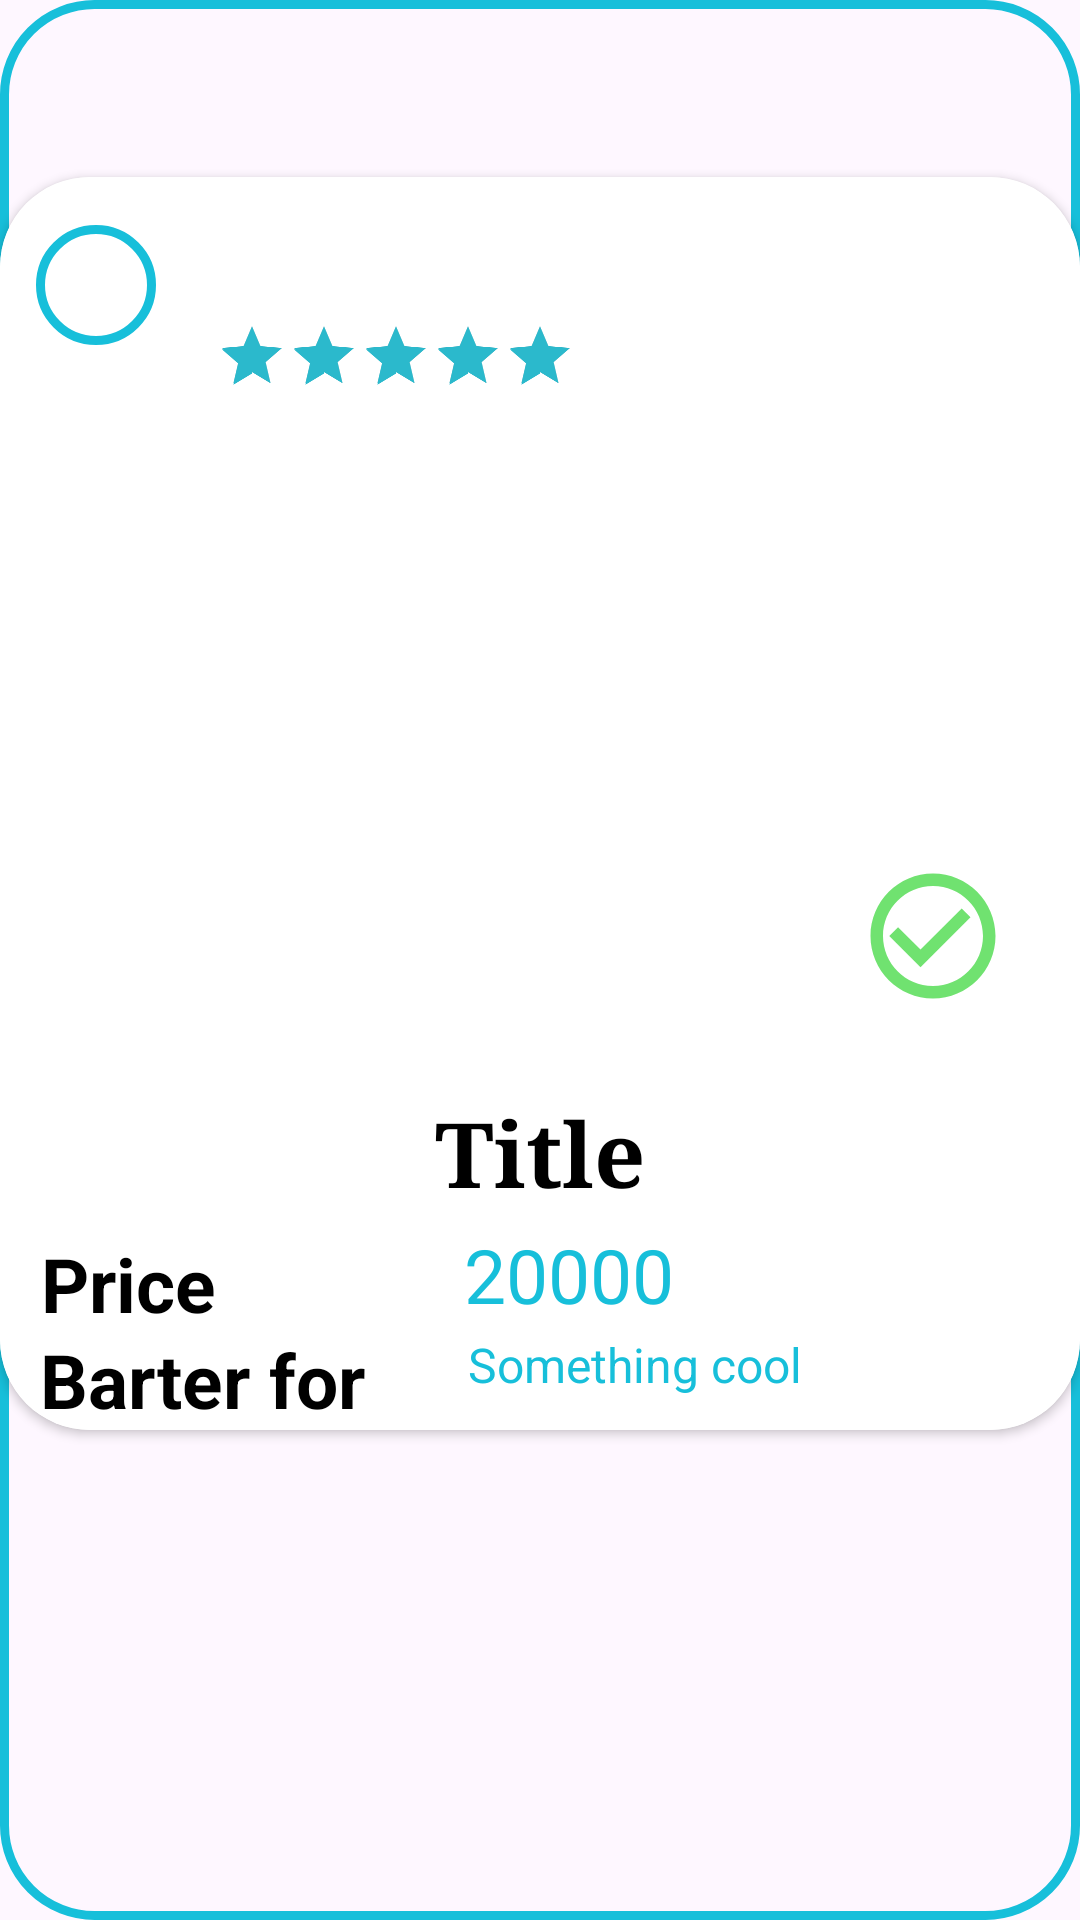

Locate icon controls on the screen. Image size 1080*1920, boxes as (x1, y1, x2, y2).
check circle: (870, 873, 996, 999)
